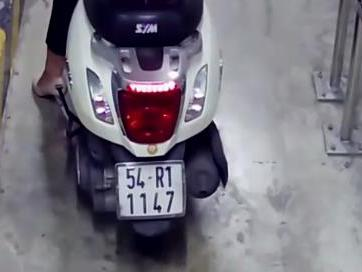num_plate: (115, 160, 186, 218)
